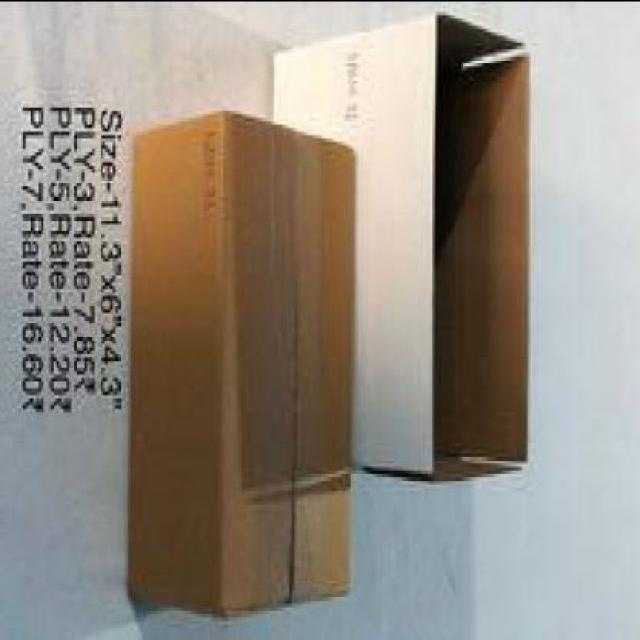CARDBOARD: (274, 3, 532, 483), (128, 102, 358, 613)
